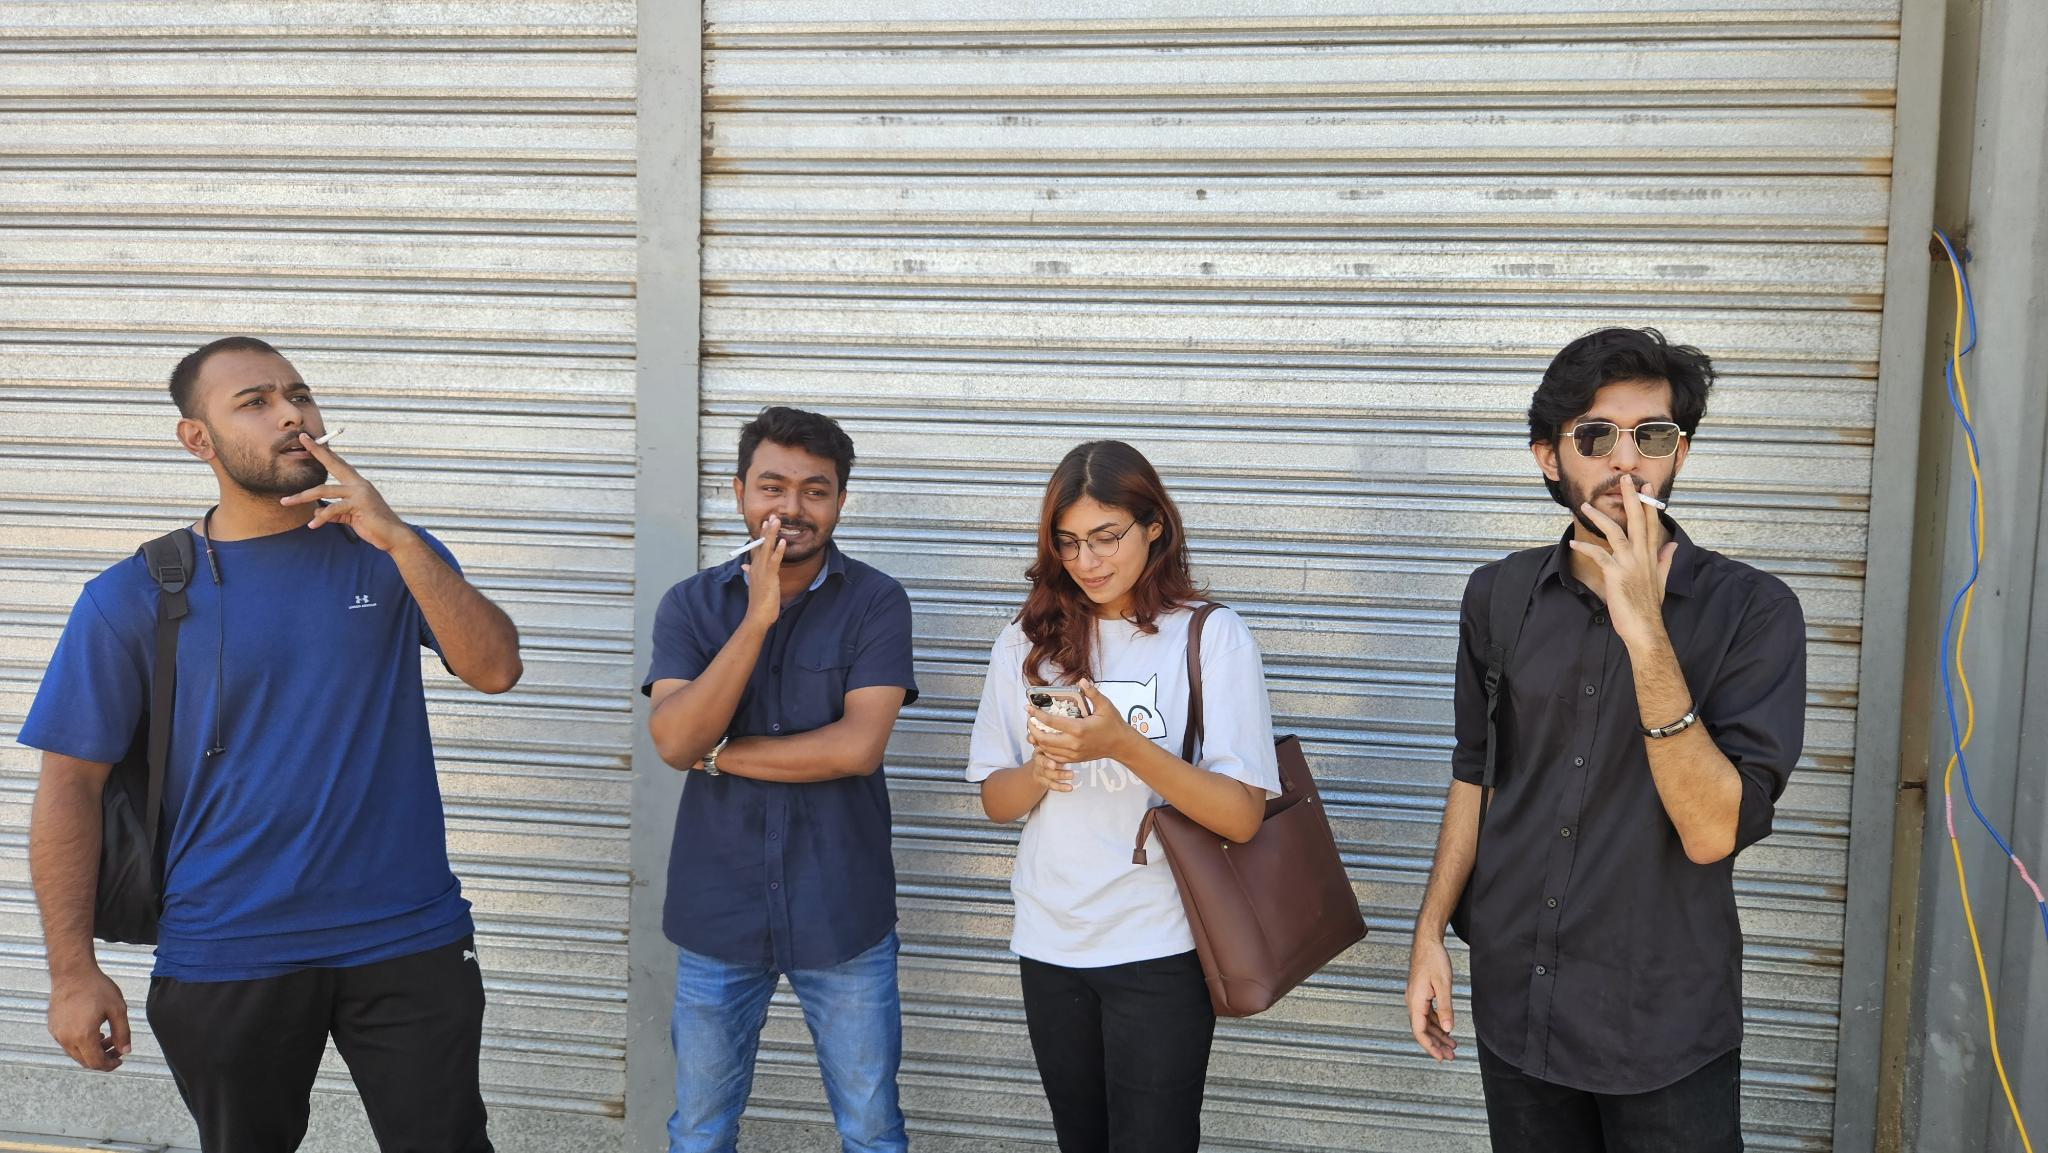cigarette: (726, 536, 768, 558), (1633, 489, 1668, 513), (314, 426, 347, 447)
nonSmoker: (965, 442, 1370, 1153)
smoker: (18, 336, 522, 1153), (1405, 329, 1809, 1153), (641, 408, 919, 1153)
